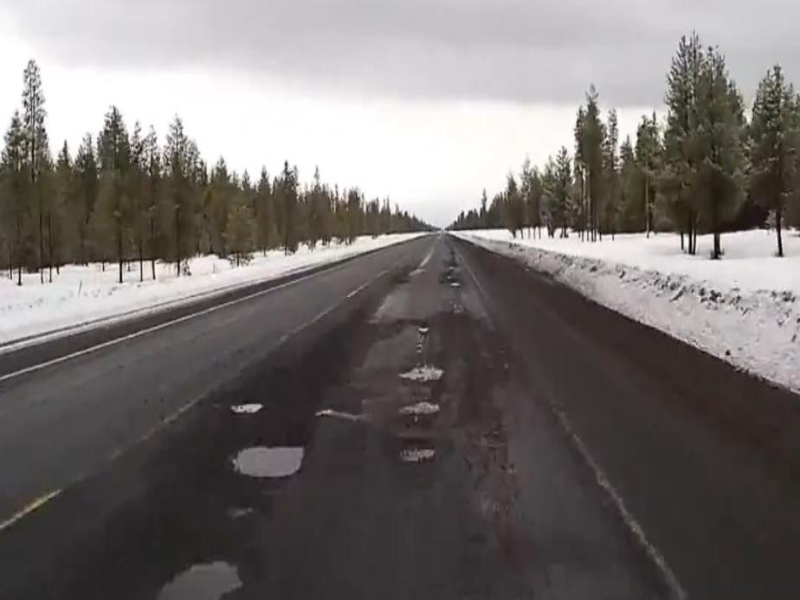pothole: (148, 554, 252, 600), (221, 437, 313, 488), (226, 397, 267, 420), (394, 444, 437, 464)
